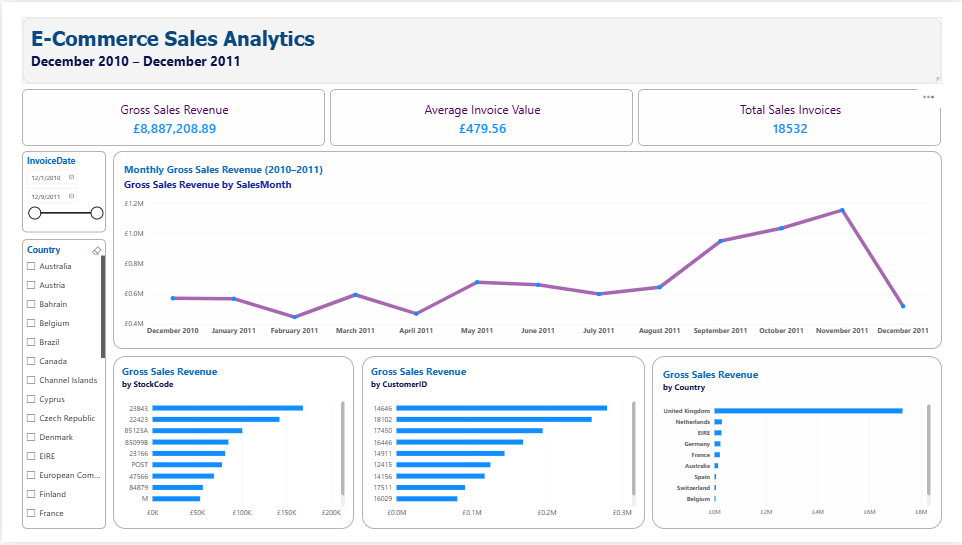

What the dashboard file says about the page in this screenshot:
{"tool":"powerbi","page":{"name":"Page 1","canvas":[1920,1080],"ordinal":0},"visuals":[{"type":"cardVisual","fields":{"Data":["ecommerce transactions.Gross Sales Revenue","ecommerce transactions.Average Invoice Value","ecommerce transactions.Total Sales Invoices"]},"box":[40,164,1840,134],"z":0},{"type":"lineChart","title":"Monthly Gross Sales Revenue (2010–2011)","fields":{"Category":["ecommerce transactions.SalesMonth"],"Y":["ecommerce transactions.Gross Sales Revenue"]},"box":[222,298,1658,396],"z":1},{"type":"clusteredBarChart","fields":{"Category":["ecommerce transactions.Country"],"Y":["ecommerce transactions.Gross Sales Revenue"]},"box":[1300,708,580,346],"z":2},{"type":"clusteredBarChart","fields":{"Category":["ecommerce transactions.StockCode"],"Y":["ecommerce transactions.Gross Sales Revenue"]},"box":[222,708,482,346],"z":3},{"type":"clusteredBarChart","fields":{"Category":["ecommerce transactions.CustomerID"],"Y":["ecommerce transactions.Gross Sales Revenue"]},"box":[720,708,566,346],"z":4},{"type":"textbox","title":"E-Commerce Sales Analytics","box":[40,30,1840,134],"z":5},{"type":"slicer","fields":{"Values":["ecommerce transactions.Country"]},"box":[40,474,168,580],"z":6},{"type":"slicer","fields":{"Values":["ecommerce transactions.InvoiceDate"]},"box":[40,298,168,163],"z":7}]}

Visuals, with their boxes in screenshot pixels (x1, y1, x2, y2), scaled from the page's 1920x1080 canvas onto the 962x545 screenshot:
cardVisual - ecommerce transactions.Gross Sales Revenue x ecommerce transactions.Average Invoice Value: bbox=[20, 83, 942, 150]
"Monthly Gross Sales Revenue (2010–2011)" lineChart: bbox=[111, 150, 942, 350]
clusteredBarChart - ecommerce transactions.Country x ecommerce transactions.Gross Sales Revenue: bbox=[651, 357, 942, 532]
clusteredBarChart - ecommerce transactions.StockCode x ecommerce transactions.Gross Sales Revenue: bbox=[111, 357, 353, 532]
clusteredBarChart - ecommerce transactions.CustomerID x ecommerce transactions.Gross Sales Revenue: bbox=[361, 357, 644, 532]
"E-Commerce Sales Analytics" textbox: bbox=[20, 15, 942, 83]
slicer - ecommerce transactions.Country: bbox=[20, 239, 104, 532]
slicer - ecommerce transactions.InvoiceDate: bbox=[20, 150, 104, 233]
